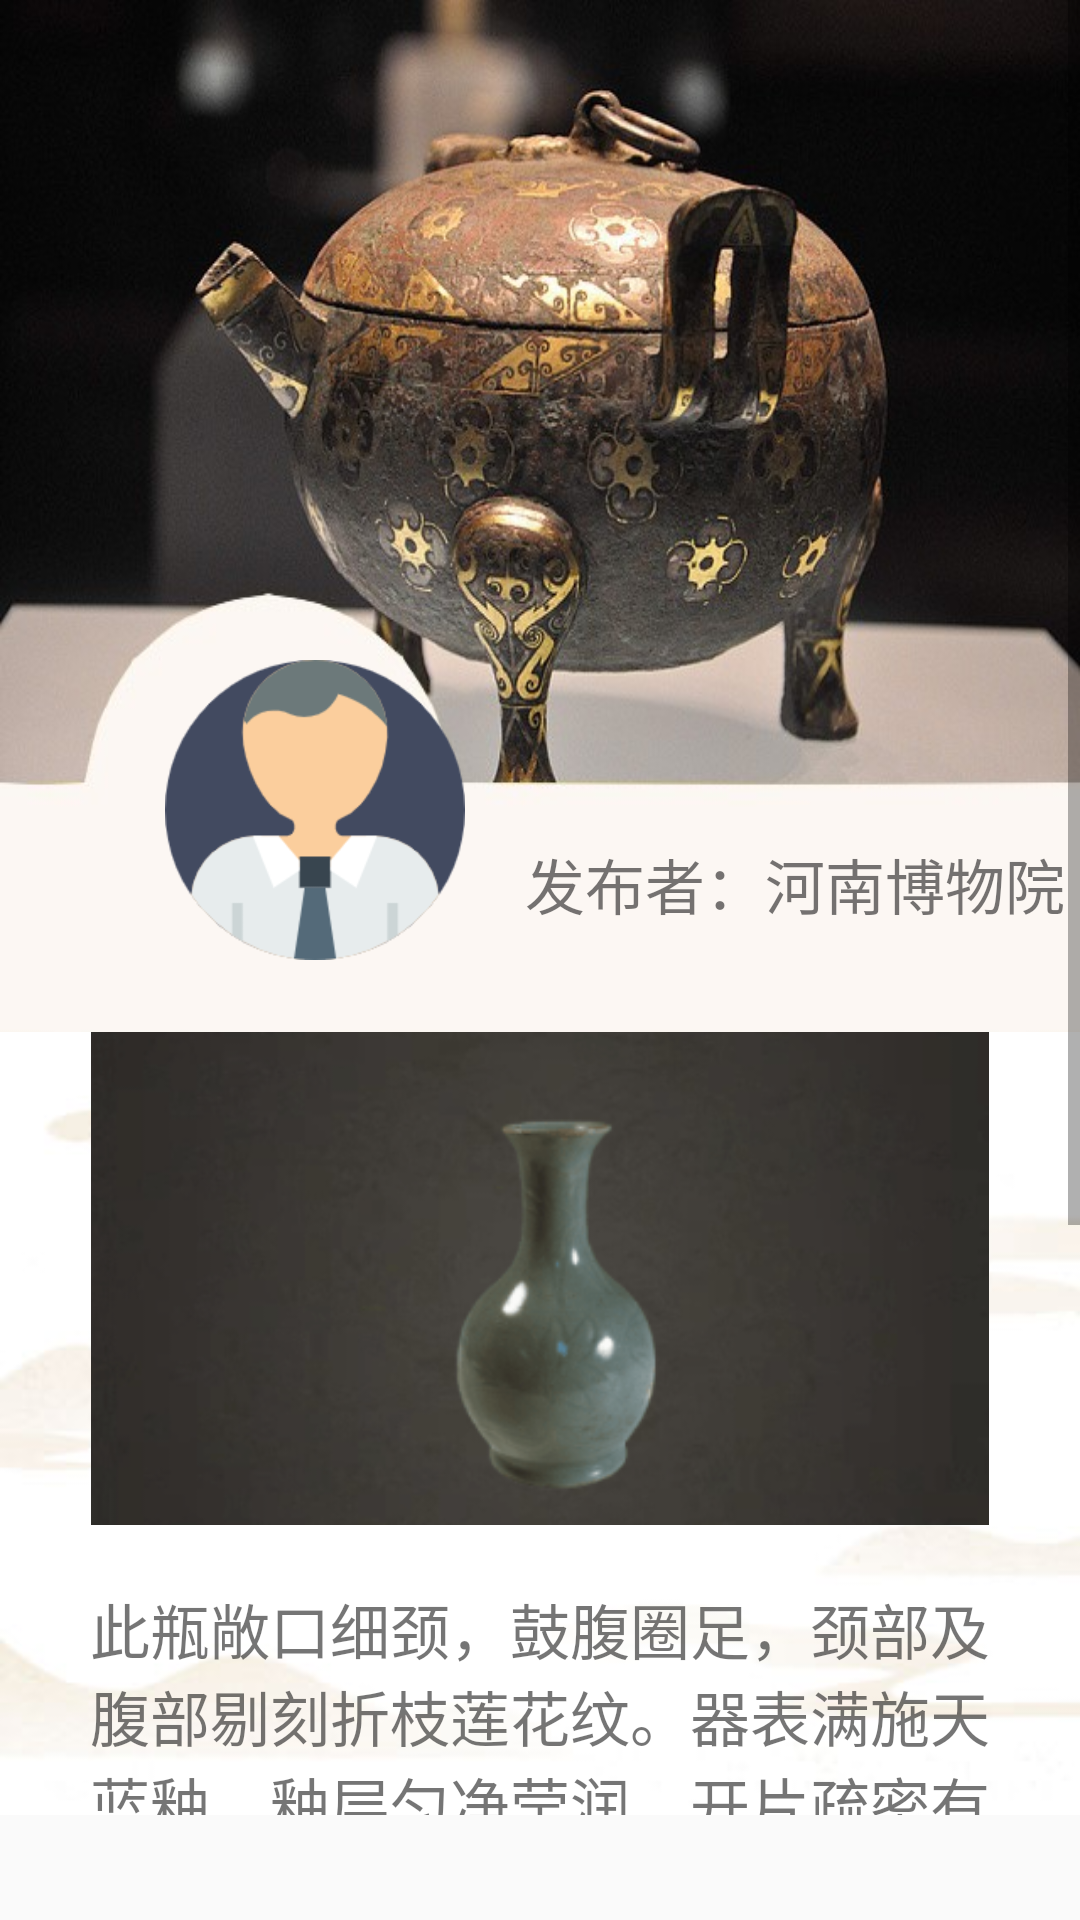

Icon bounding boxes for this 1080 × 1920 phone screenshot, format {"left": x1, "top": y1, "right": x2, "bottom": y2}:
user: {"left": 165, "top": 660, "right": 465, "bottom": 960}
